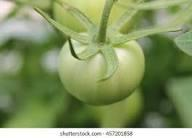Mengkal: (51, 27, 147, 106)
